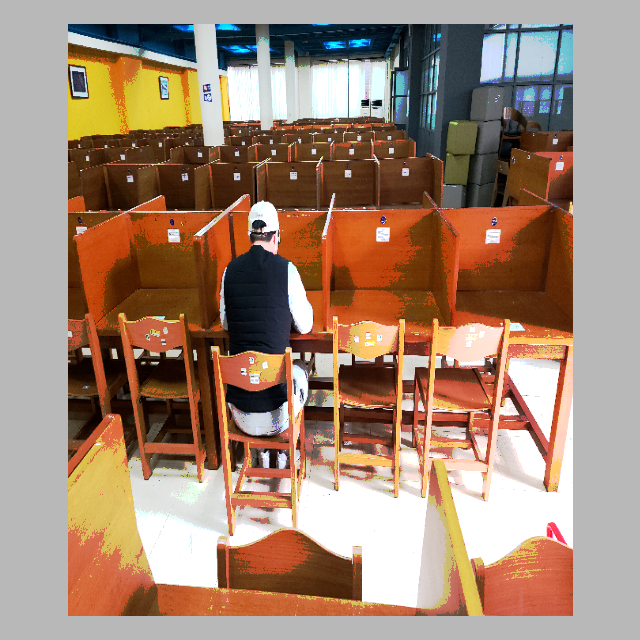empty: (333, 208, 450, 399), (458, 202, 572, 390)
full: (203, 189, 328, 430)
